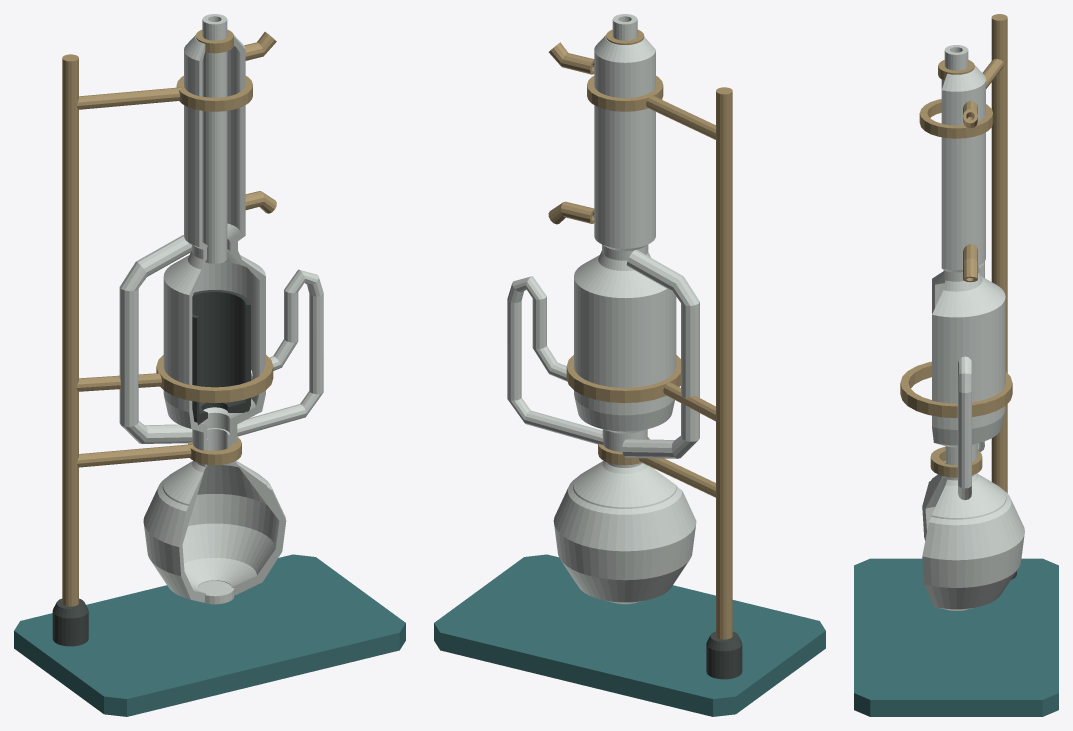
The picture shows the model from 3 angles, left to right: view 1: azimuth 30°, elevation 25°; view 2: azimuth 150°, elevation 25°; view 3: azimuth 270°, elevation 25°; orthographic projection. The views are drawn at different scales.
Parts seen in each view (by area): view 1: WholeBroadChamferedBase, WholeLowerFlaskCutaway, WholeMiddleExtractionChamber, WholeOffsetSupportRod, WholeUpperJacketCutaway, WholeEmptyInnerThimble, WholeCentralOpenCondenserTube, WholeTallSideBypass, WholeCurvedSideReturn, WholeMiddleSupportCollar, WholeLowerCollarReach, WholeSupportFootSleeve (+5 smaller); view 2: WholeBroadChamferedBase, WholeLowerFlaskCutaway, WholeMiddleExtractionChamber, WholeUpperJacketCutaway, WholeOffsetSupportRod, WholeTallSideBypass, WholeCurvedSideReturn, WholeMiddleSupportCollar, WholeSupportFootSleeve, WholeUpperSupportCollar, WholeUpperCollarReach, WholeLowerCollarReach (+4 smaller); view 3: WholeBroadChamferedBase, WholeLowerFlaskCutaway, WholeMiddleExtractionChamber, WholeUpperJacketCutaway, WholeOffsetSupportRod, WholeMiddleSupportCollar, WholeCurvedSideReturn, WholeUpperSupportCollar, WholeLowerNeckCollar, WholeCentralOpenCondenserTube, WholeLowerJacketSidePort, WholeUpperJacketSidePort.
Part boxes in pixels (<box>): WholeBroadChamferedBase: <box>14,554,405,716</box>; WholeLowerFlaskCutaway: <box>143,428,286,602</box>; WholeMiddleExtractionChamber: <box>163,239,265,450</box>; WholeOffsetSupportRod: <box>62,54,78,606</box>; WholeUpperJacketCutaway: <box>184,35,245,250</box>; WholeEmptyInnerThimble: <box>192,290,250,424</box>; WholeCentralOpenCondenserTube: <box>202,14,227,263</box>; WholeTallSideBypass: <box>119,235,192,443</box>; WholeCurvedSideReturn: <box>224,269,323,436</box>; WholeMiddleSupportCollar: <box>156,355,273,402</box>; WholeLowerCollarReach: <box>77,444,193,467</box>; WholeSupportFootSleeve: <box>52,598,88,646</box>; WholeBroadChamferedBase: <box>434,554,825,716</box>; WholeLowerFlaskCutaway: <box>553,460,696,603</box>; WholeMiddleExtractionChamber: <box>574,244,676,451</box>; WholeUpperJacketCutaway: <box>594,35,655,251</box>; WholeOffsetSupportRod: <box>716,87,732,639</box>; WholeTallSideBypass: <box>622,249,699,458</box>; WholeCurvedSideReturn: <box>507,276,603,444</box>; WholeMiddleSupportCollar: <box>566,355,680,402</box>; WholeSupportFootSleeve: <box>706,631,742,679</box>; WholeUpperSupportCollar: <box>587,76,663,111</box>; WholeUpperCollarReach: <box>646,94,715,139</box>; WholeLowerCollarReach: <box>639,458,715,497</box>; WholeBroadChamferedBase: <box>854,558,1058,716</box>; WholeLowerFlaskCutaway: <box>922,473,1024,610</box>; WholeMiddleExtractionChamber: <box>932,266,1005,465</box>; WholeUpperJacketCutaway: <box>941,65,985,272</box>; WholeOffsetSupportRod: <box>991,14,1007,492</box>; WholeMiddleSupportCollar: <box>900,361,1012,418</box>; WholeCurvedSideReturn: <box>958,356,971,500</box>; WholeUpperSupportCollar: <box>919,99,993,138</box>; WholeLowerNeckCollar: <box>930,446,982,477</box>; WholeCentralOpenCondenserTube: <box>944,45,968,280</box>; WholeLowerJacketSidePort: <box>963,244,977,282</box>; WholeUpperJacketSidePort: <box>963,100,977,128</box>.
Bounding box in the file's own units: 0.62 × 1.23 × 0.38.
